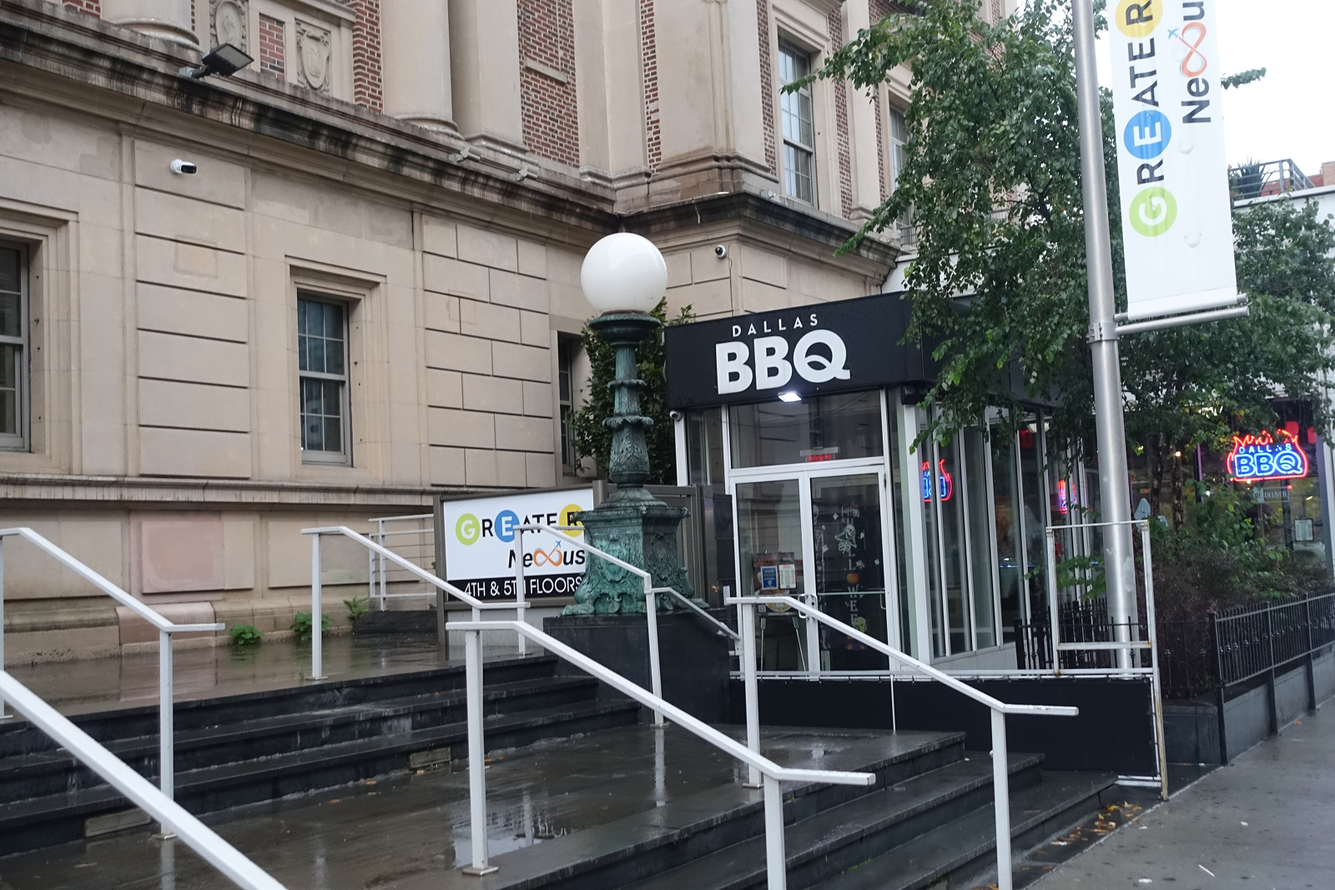fachada: (0, 2, 726, 651), (732, 2, 1053, 288)
poste: (1051, 0, 1220, 674), (561, 206, 709, 611)
